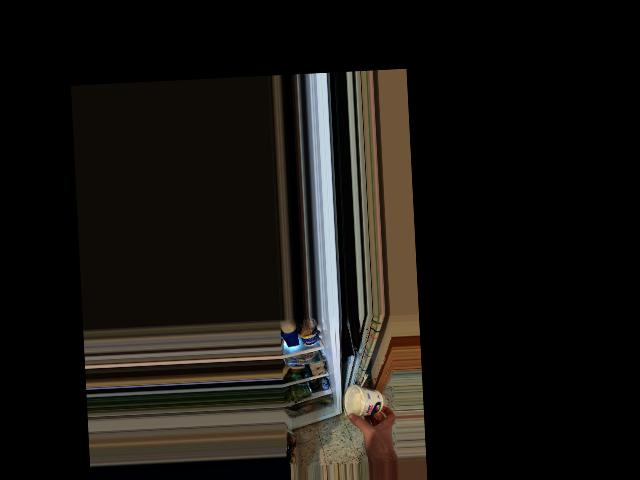cotage: (343, 384, 387, 419)
